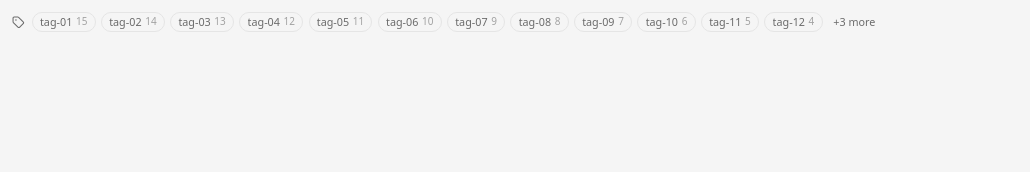
Test: TagFilterRail › collapses past the limit behind a "+N more" expander
Expected: the button "tag-13" is not shown
Click the button "+3 more".
click(854, 22)  # box [828, 13, 881, 31]
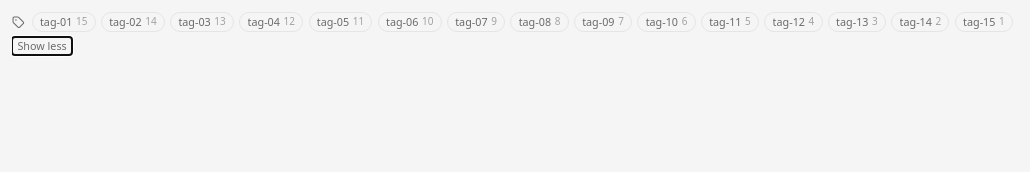
Now the button "tag-15 1" is shown, box [955, 12, 1013, 32]
Now the button "Show less" is shown, box [12, 37, 72, 55]
